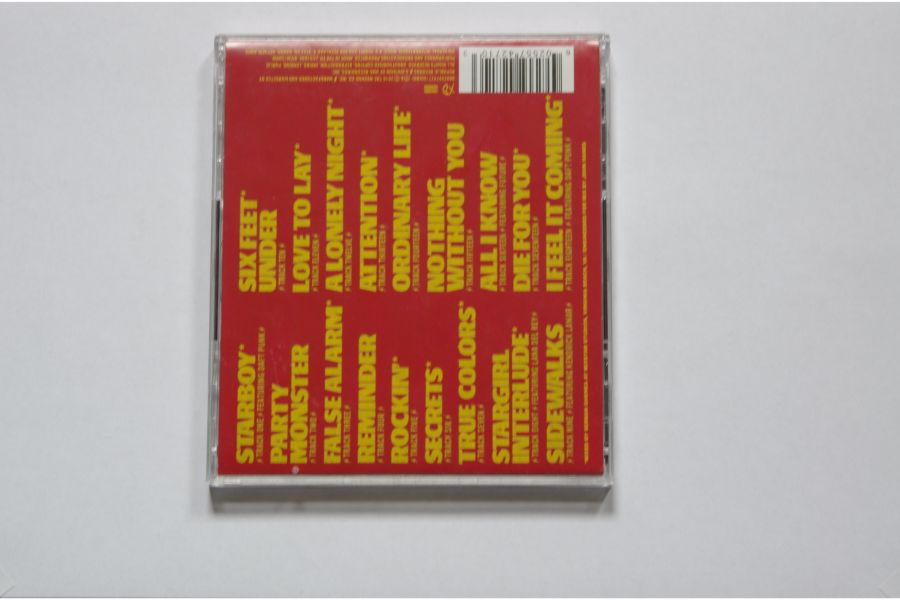album: (207, 29, 616, 494)
